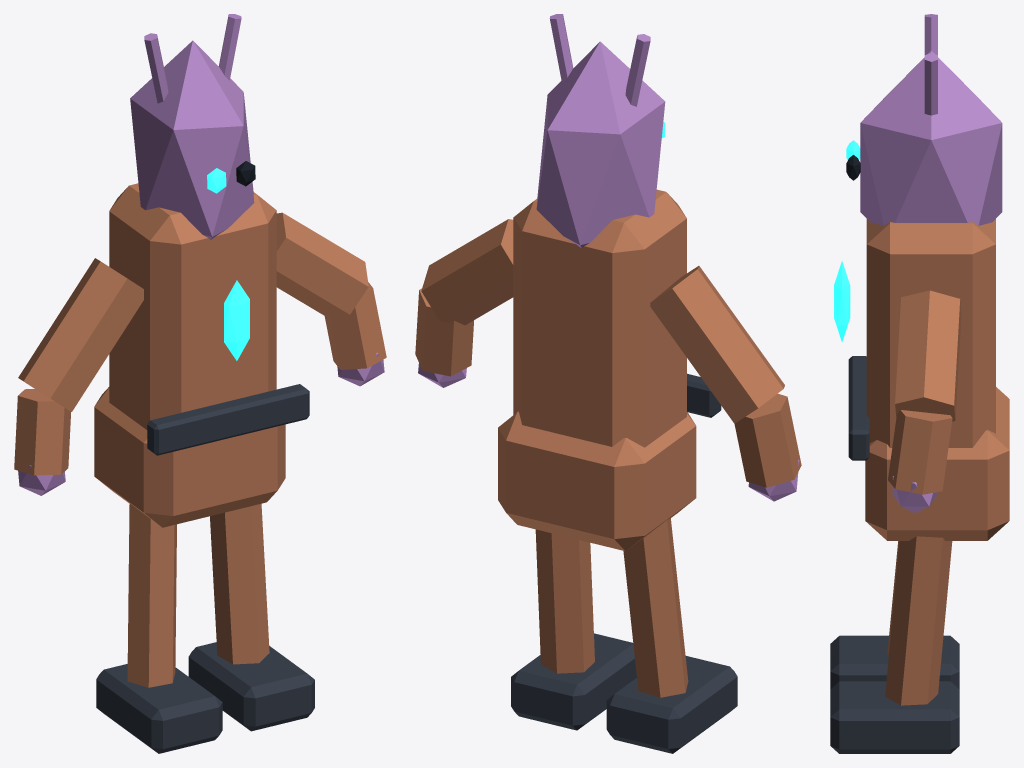
The model's file is npcs_039_seed11.glb.
3 views of the same model, side by side, from view 1: azimuth 30°, elevation 25°; view 2: azimuth 150°, elevation 25°; view 3: azimuth 270°, elevation 25° (orthographic). The views are drawn at different scales.
Parts seen in each view (by area): view 1: npcs_039_seed11; view 2: npcs_039_seed11; view 3: npcs_039_seed11.
Part boxes in pixels (x1=…): npcs_039_seed11: x1=14, y1=14, x2=386, y2=753; npcs_039_seed11: x1=415, y1=14, x2=801, y2=753; npcs_039_seed11: x1=830, y1=14, x2=1009, y2=753.
Size of the model in its own units: 1.06 by 1.87 by 0.443.
